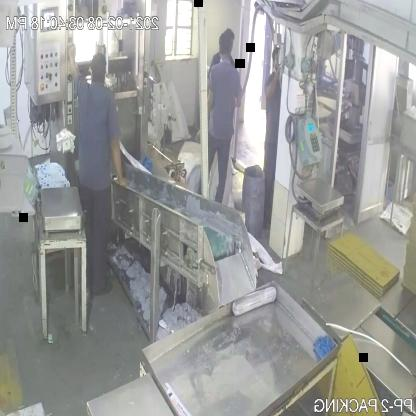no_glove: (111, 128, 130, 194), (67, 41, 82, 84), (266, 66, 281, 102)
